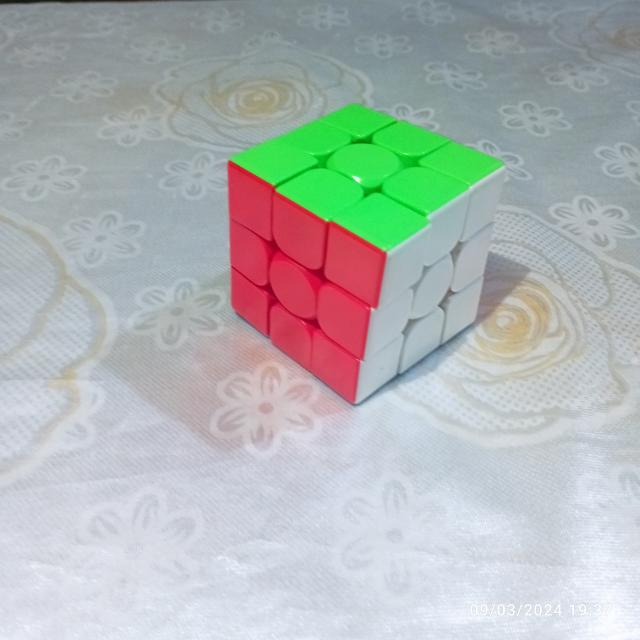Rub: (221, 96, 512, 420)
